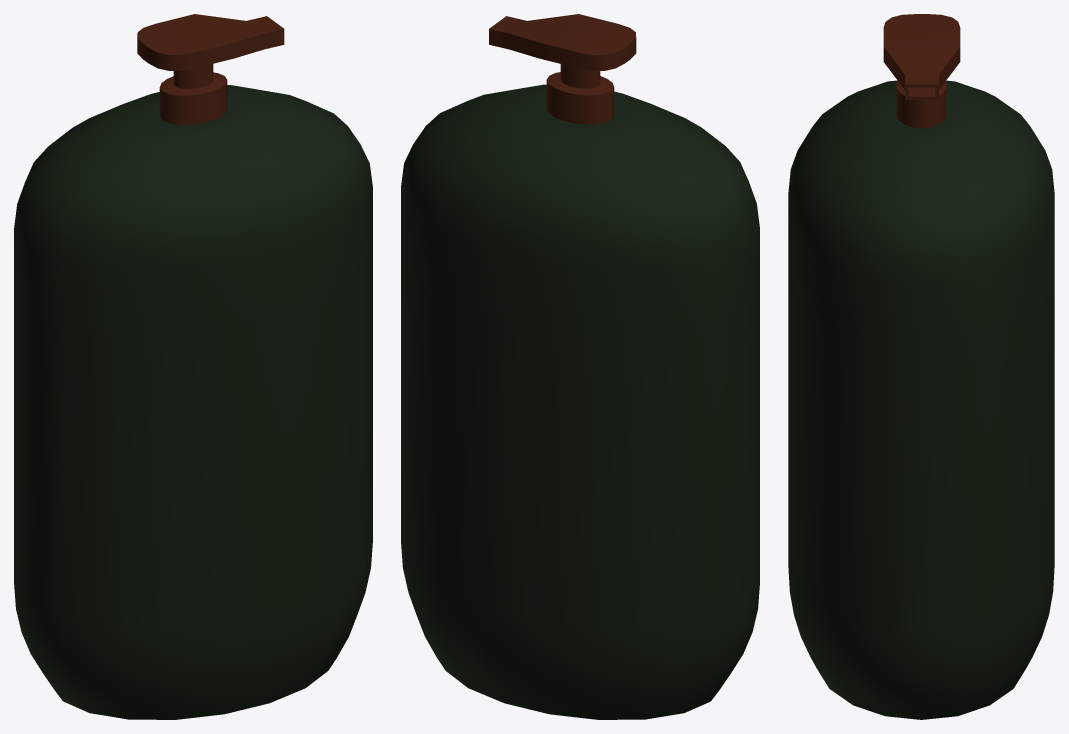
Rendered from ShampoingSeul.fbx.
3 renders of one model, left to right at view 1: azimuth 30°, elevation 25°; view 2: azimuth 150°, elevation 25°; view 3: azimuth 270°, elevation 25°, orthographic. The views are drawn at different scales.
Visible parts, largest first — view 1: ShampoingSeul; view 2: ShampoingSeul; view 3: ShampoingSeul.
Boxes of the visible parts, <box> form: ShampoingSeul: <box>14,14,372,719</box>; ShampoingSeul: <box>401,14,759,719</box>; ShampoingSeul: <box>788,14,1054,719</box>.
Bounding box in the file's own units: 14.84 × 27.21 × 10.55.
